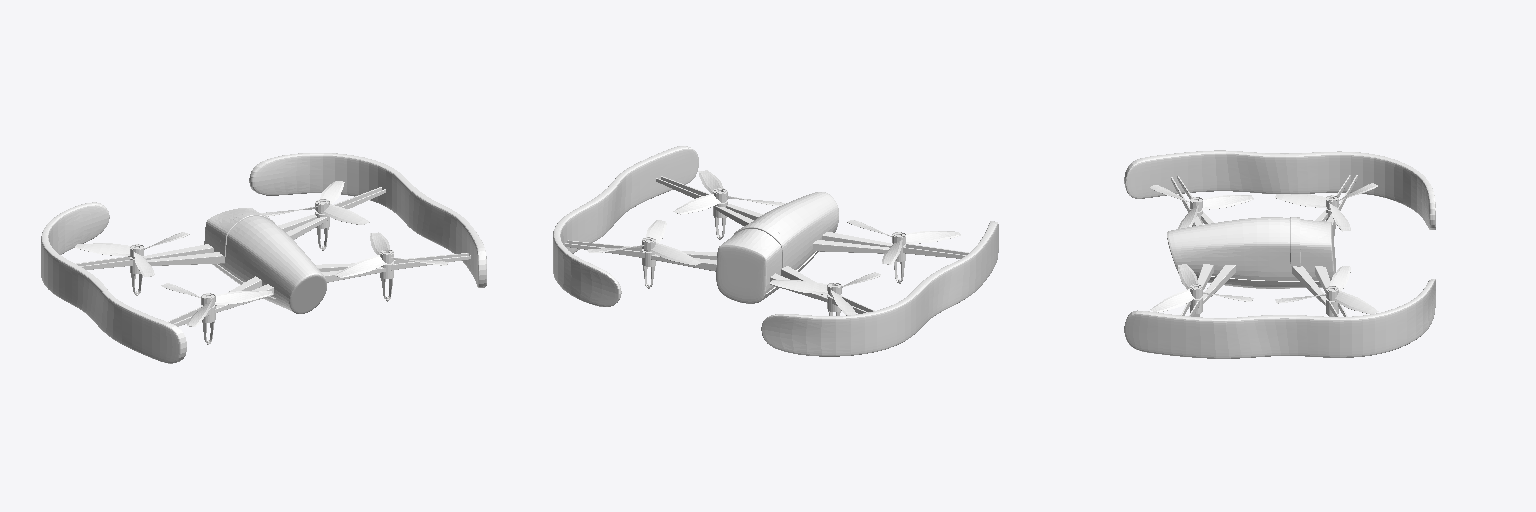
File: omfg.obj
The picture shows the model from 3 angles: view 1: azimuth 30°, elevation 25°; view 2: azimuth 150°, elevation 25°; view 3: azimuth 270°, elevation 25°; orthographic projection.
Visible parts, largest first — view 1: Cubo_6, Cilindro_4, Cubo.1_5, Cubo, Cubo.2, Cubo.3, Cubo.1, Cubo.1_3; view 2: Cubo_6, Cilindro_4, Cubo.1_2, Cubo_3, Cubo.2_1, Cubo.3_1, Cubo.1_3, Cubo.1, Cubo_5; view 3: Cubo_6, Cilindro_4, Cubo.3_1, Cubo.3, Cubo.2, Cubo.2_1, Cubo.1_2, Cubo.1_5, Cubo, Cubo_3.
Part boxes in pixels (bbox=[...]): Cubo_6: bbox=[41, 153, 486, 363]; Cilindro_4: bbox=[204, 208, 326, 313]; Cubo.1_5: bbox=[214, 255, 386, 305]; Cubo: bbox=[147, 217, 327, 265]; Cubo.2: bbox=[75, 181, 344, 256]; Cubo.3: bbox=[134, 204, 369, 276]; Cubo.1: bbox=[144, 214, 316, 259]; Cubo.1_3: bbox=[215, 267, 385, 312]; Cubo_6: bbox=[553, 146, 998, 356]; Cilindro_4: bbox=[716, 192, 838, 303]; Cubo.1_2: bbox=[650, 243, 828, 294]; Cubo_3: bbox=[715, 206, 889, 253]; Cubo.2_1: bbox=[698, 170, 960, 243]; Cubo.3_1: bbox=[673, 194, 902, 264]; Cubo.1_3: bbox=[726, 204, 891, 247]; Cubo.1: bbox=[651, 254, 827, 302]; Cubo_5: bbox=[656, 178, 965, 258]; Cubo_6: bbox=[1124, 150, 1435, 358]; Cilindro_4: bbox=[1167, 217, 1335, 288]; Cubo.3_1: bbox=[1201, 195, 1253, 301]; Cubo.3: bbox=[1275, 194, 1326, 303]; Cubo.2: bbox=[1333, 183, 1378, 313]; Cubo.2_1: bbox=[1150, 185, 1194, 312]; Cubo.1_2: bbox=[1329, 203, 1350, 290]; Cubo.1_5: bbox=[1178, 205, 1198, 289]; Cubo: bbox=[1292, 210, 1327, 305]; Cubo_3: bbox=[1201, 212, 1235, 303].
Bounding box in the file's own units: 7.85 × 1.57 × 6.05.